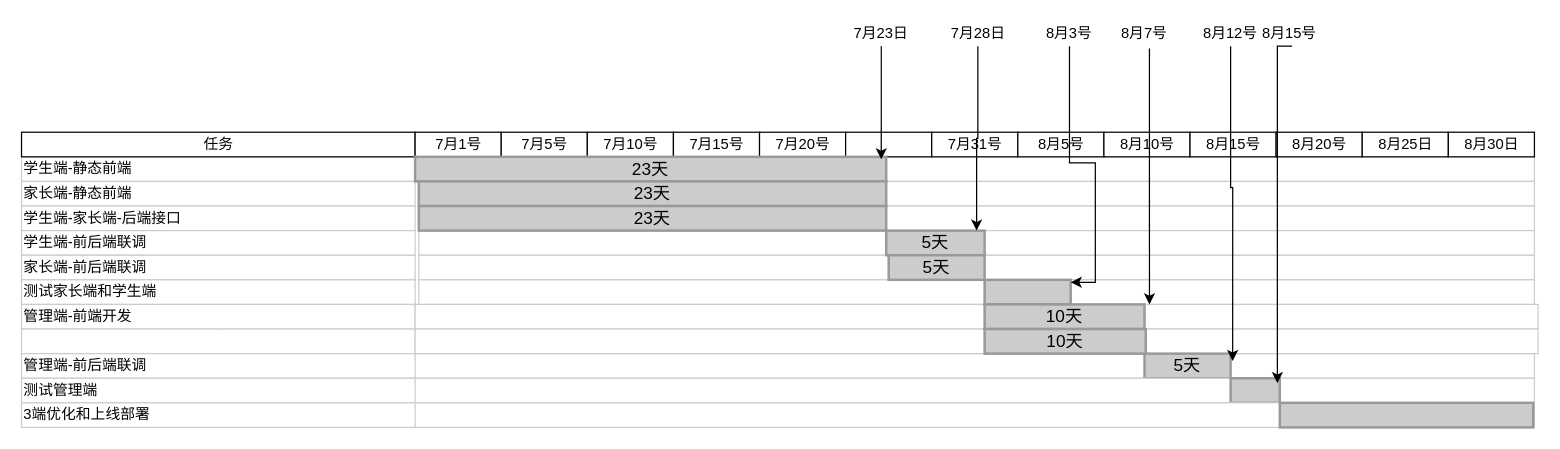
The diagram is 1560 pixels wide and 449 high, and some of its shapes have lost their labels. Here are the shapes that lost their labels. From the top down, the box of each, then its label:
(844, 131, 932, 157): 7月25号
(983, 278, 1071, 305): 6天
(20, 328, 415, 354): 管理端-后端开发
(1229, 376, 1280, 403): 3天
(1278, 401, 1534, 428): 15天
